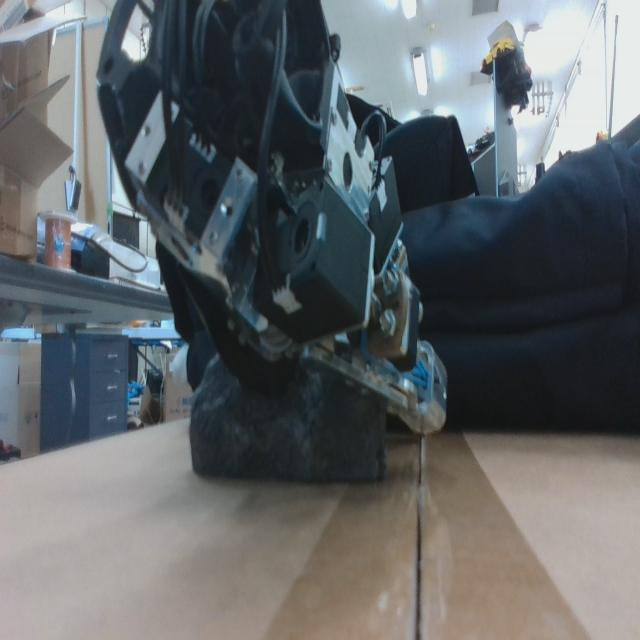stone: (187, 350, 389, 485)
